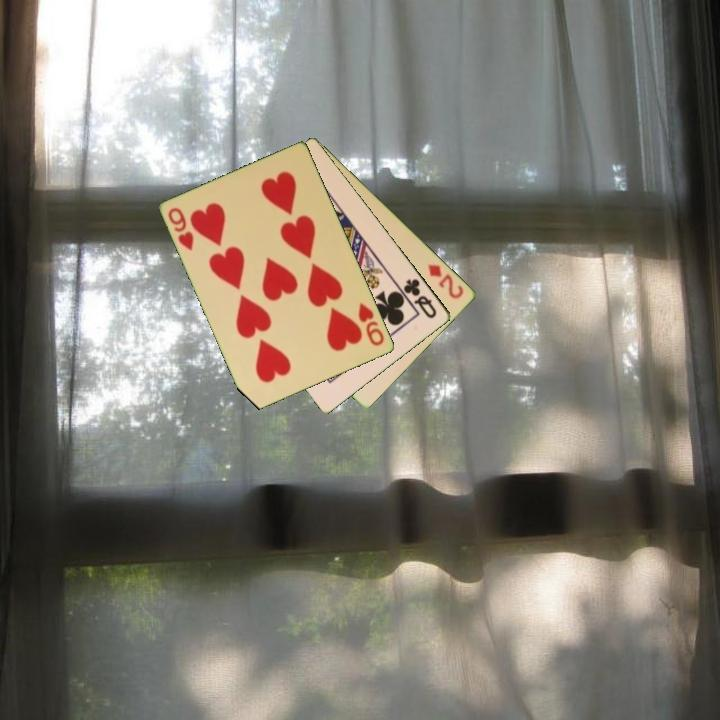2d: (425, 260, 467, 302)
9h: (355, 299, 387, 349), (165, 204, 197, 254)
Qc: (400, 275, 440, 321)
